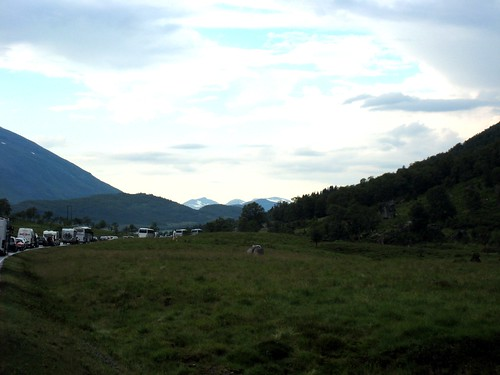grass: (54, 235, 500, 375)
sky: (11, 1, 500, 133)
